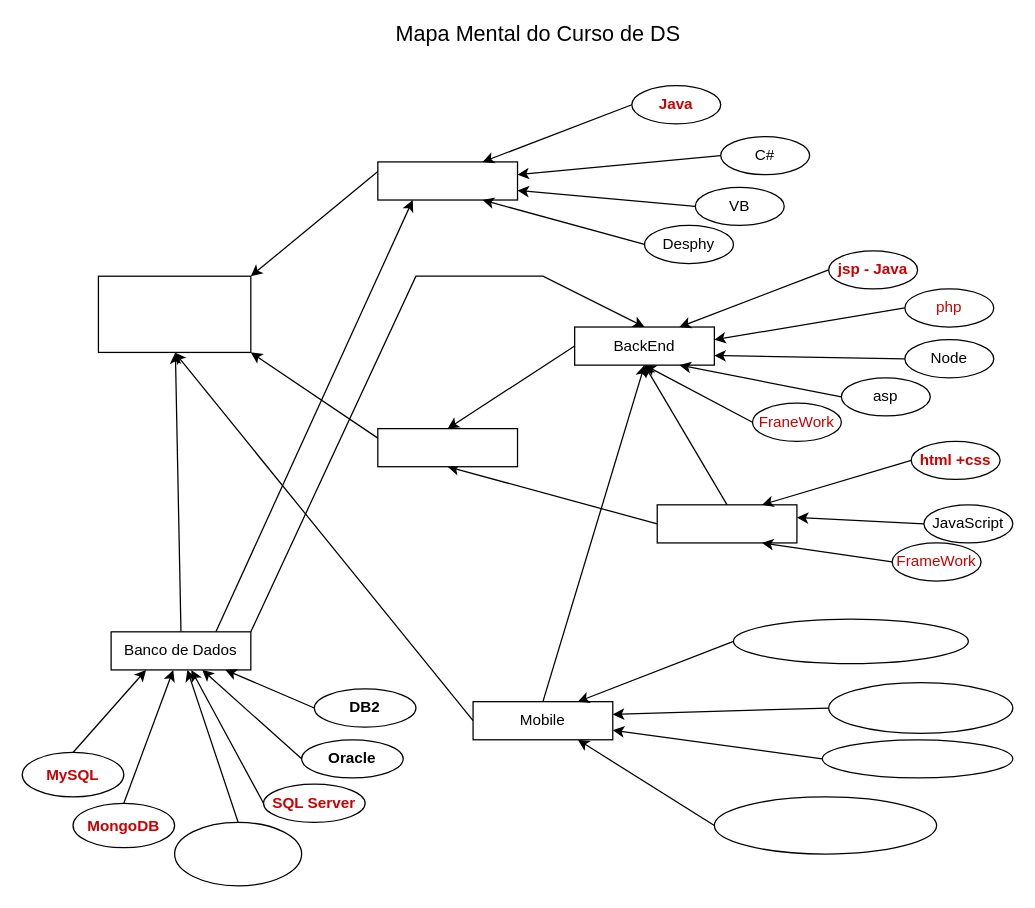
The diagram is 1035 pixels wide and 908 high, and some of its shapes have lost their labels. The centre of each missing label's shape, as x and y in pixels:
Android Studio (Java, Cotlin, xml): the point at 850,641
Arquivos (txt,csv,xml, json): the point at 237,853
Desenvolvimento de Sistemas (Computacionais): the point at 174,313
Desktop: the point at 447,180
FrontEnd: the point at 726,523
FullStack: the point at 447,447
Ionic (typeScript) Marcação: the point at 920,707
No Code ( AppInvendot , Kodular): the point at 825,825
React Native (JavaScript): the point at 917,758
